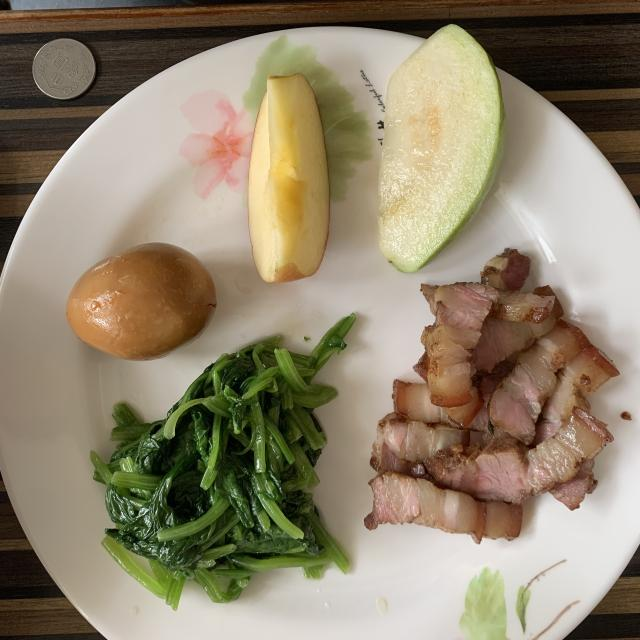apple -sliced-: (248, 74, 330, 282)
coin: (32, 39, 96, 100)
grilled pork: (365, 250, 619, 541)
guava -sliced-: (379, 25, 505, 272)
mustard greens: (91, 315, 355, 609)
soy egg: (66, 242, 216, 360)
